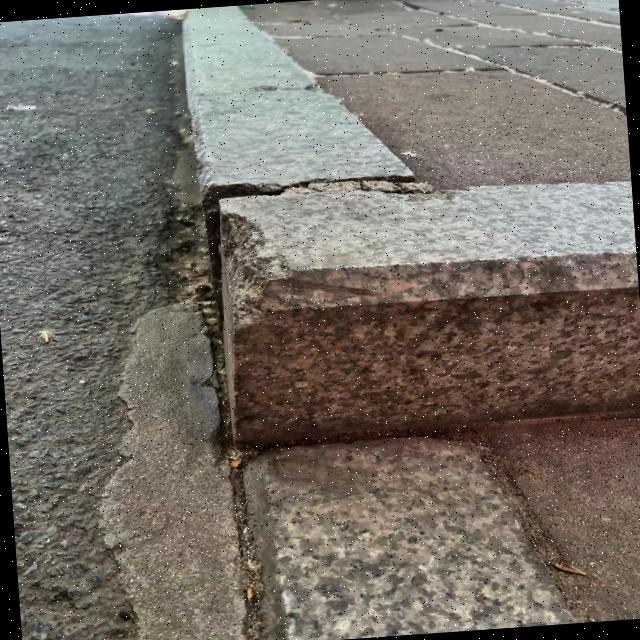curb: (208, 169, 640, 461), (164, 1, 417, 220)
